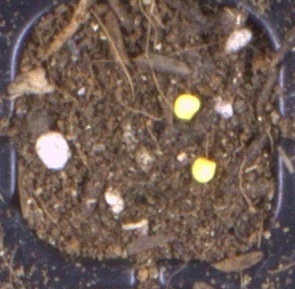chilli seed: (173, 93, 201, 121), (190, 156, 217, 184)
